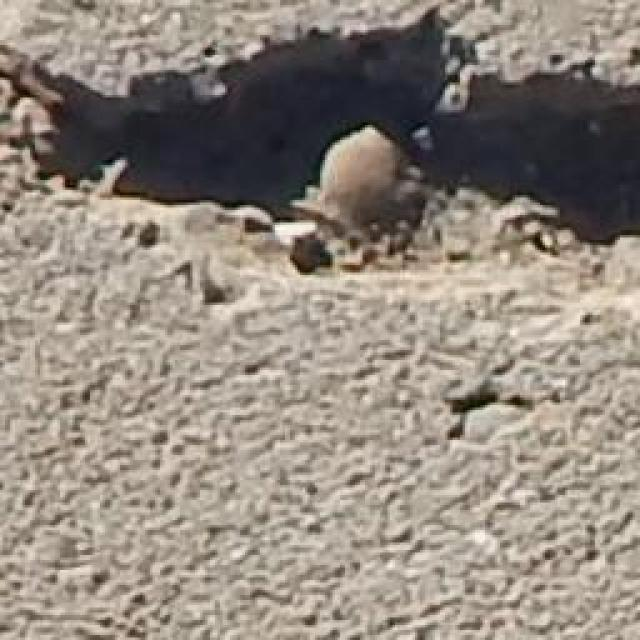concrete-crack: (428, 380, 543, 454)
